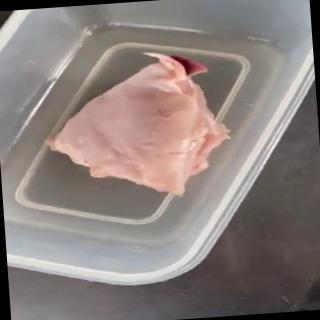Ayam: (38, 45, 237, 206)
